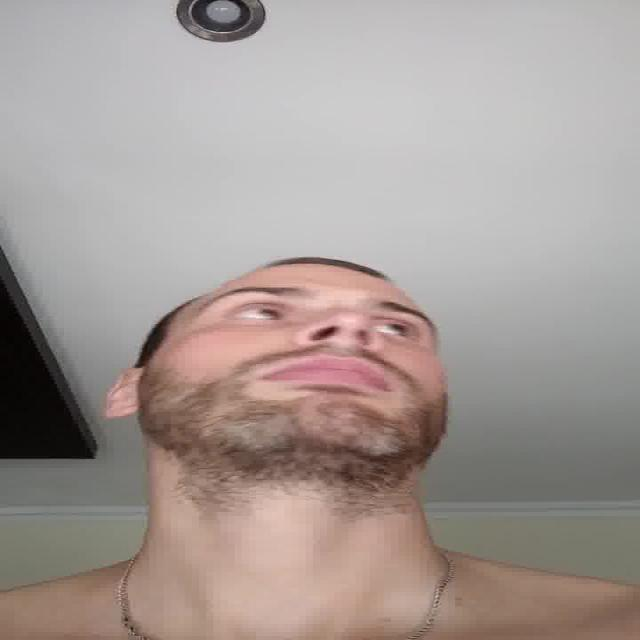earlobe: (103, 367, 145, 419)
